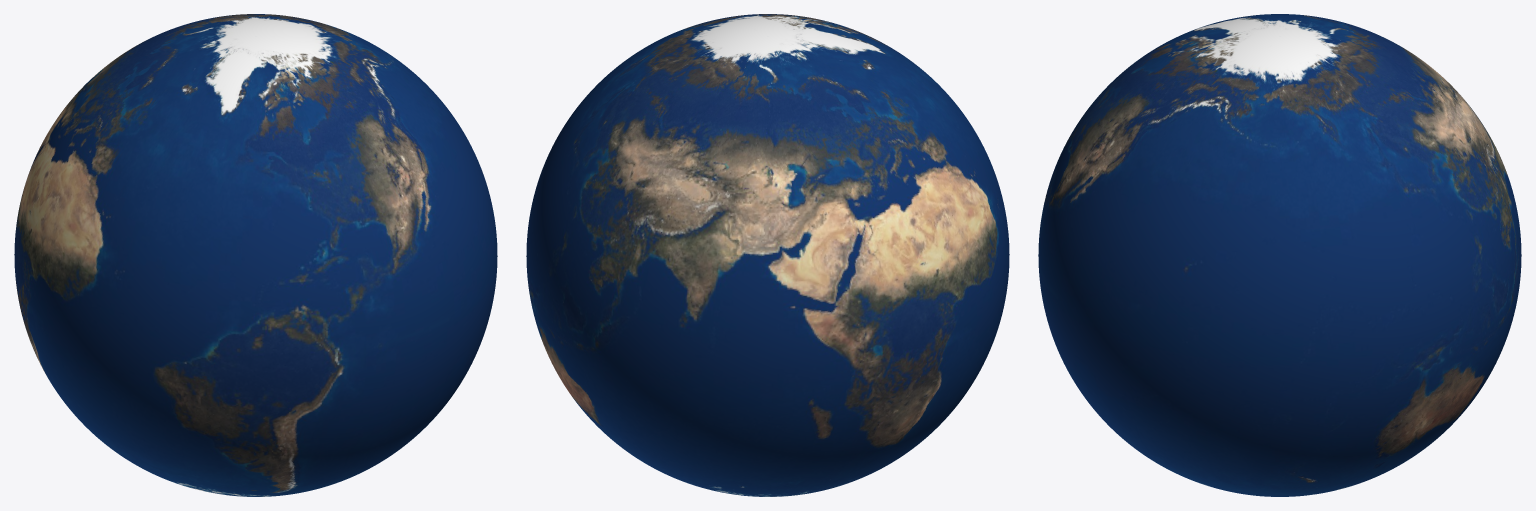
File: earth-layers.glb
3 views of the same model, side by side, from view 1: azimuth 30°, elevation 25°; view 2: azimuth 150°, elevation 25°; view 3: azimuth 270°, elevation 25° (orthographic).
Parts seen in each view (by area): view 1: Crust_Surface; view 2: Crust_Surface; view 3: Crust_Surface.
Boxes of the visible parts, box(x1,y1,x2,y2) form: Crust_Surface: box(14, 14, 497, 496); Crust_Surface: box(526, 14, 1009, 496); Crust_Surface: box(1038, 14, 1521, 496).
Size of the model in its own units: 4.4 by 4.4 by 4.4.
Materials: 4 (4 with a texture image).
